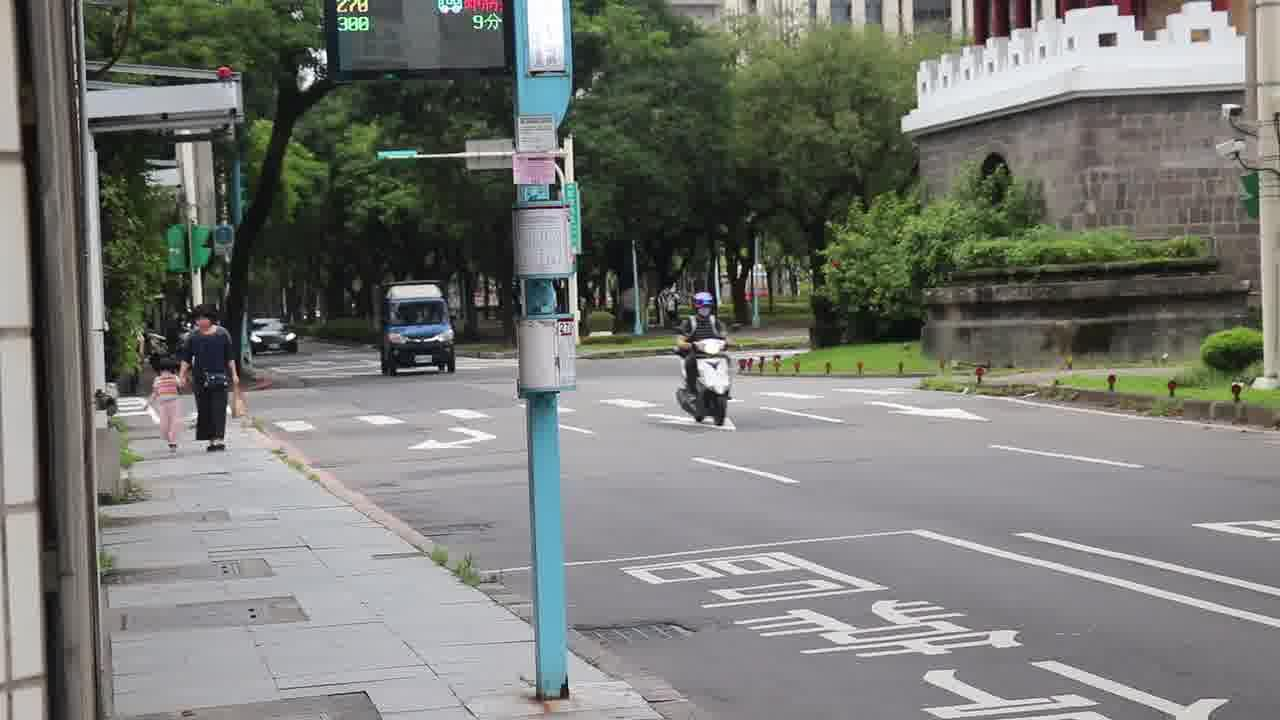driver: (675, 290, 744, 427)
helmet: (692, 291, 715, 320)
